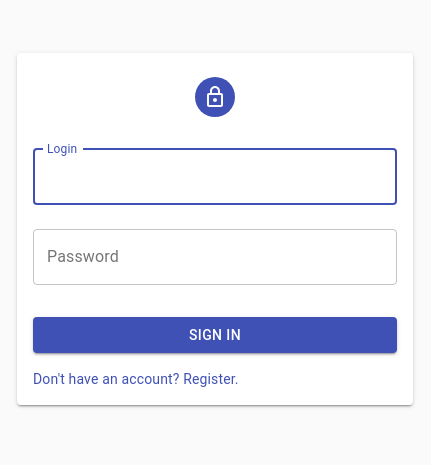
Test: Auth module render › should open login page by click on link
Click the text with test id "link-register" at (136, 379), box [33, 371, 239, 387]
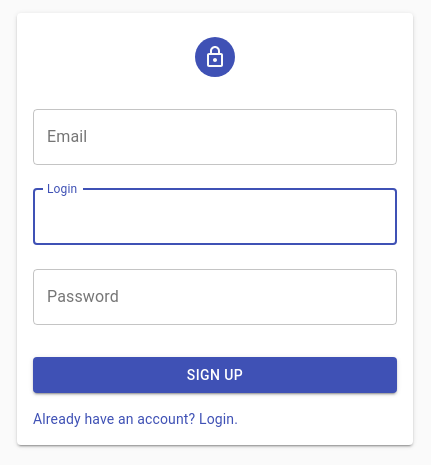
Click the text with test id "link-login" at (136, 419), box [33, 411, 238, 427]
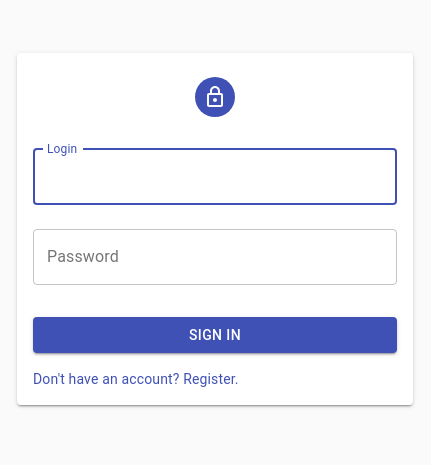
Now the text "Don't have an account? Register." is shown, box [33, 371, 239, 387]
